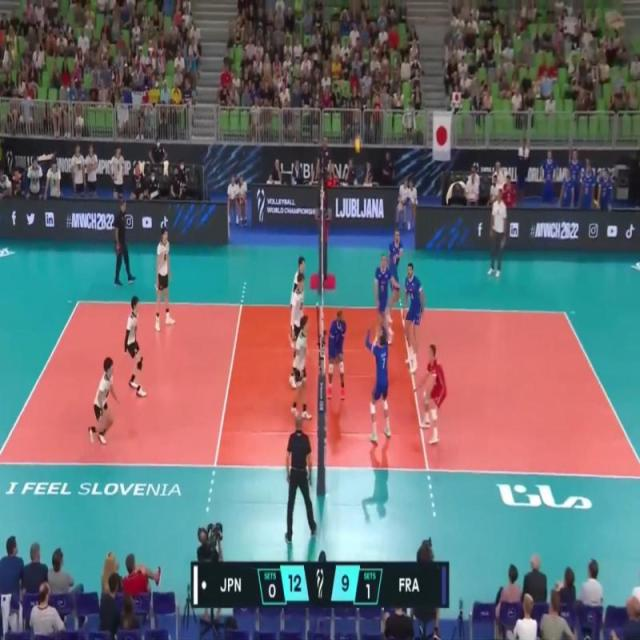volleyball: (353, 136, 363, 154)
